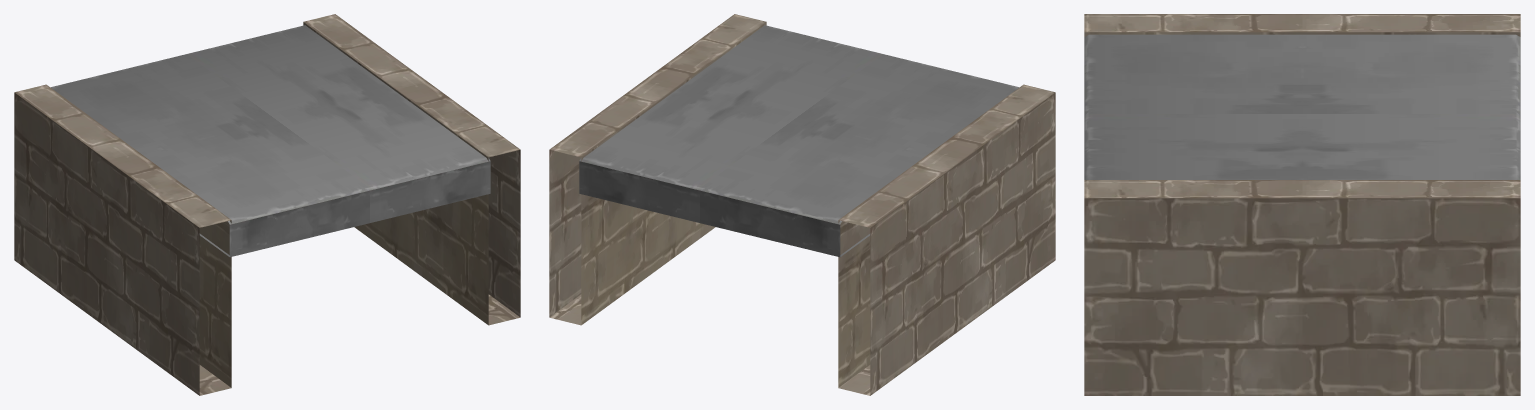
The model's file is Stairs_Exterior_Platform.glb.
The picture shows the model from 3 angles, left to right: view 1: azimuth 30°, elevation 25°; view 2: azimuth 150°, elevation 25°; view 3: azimuth 270°, elevation 25°; orthographic projection. The views are drawn at different scales.
Parts seen in each view (by area): view 1: Stairs_Exterior_Platform; view 2: Stairs_Exterior_Platform; view 3: Stairs_Exterior_Platform.
Boxes of the visible parts, bbox=[...] form: Stairs_Exterior_Platform: bbox=[14, 14, 520, 395]; Stairs_Exterior_Platform: bbox=[549, 14, 1055, 395]; Stairs_Exterior_Platform: bbox=[1084, 14, 1520, 395].
Bounding box in the file's own units: 2 × 1 × 2.
Materials: 2 (2 with a texture image).
